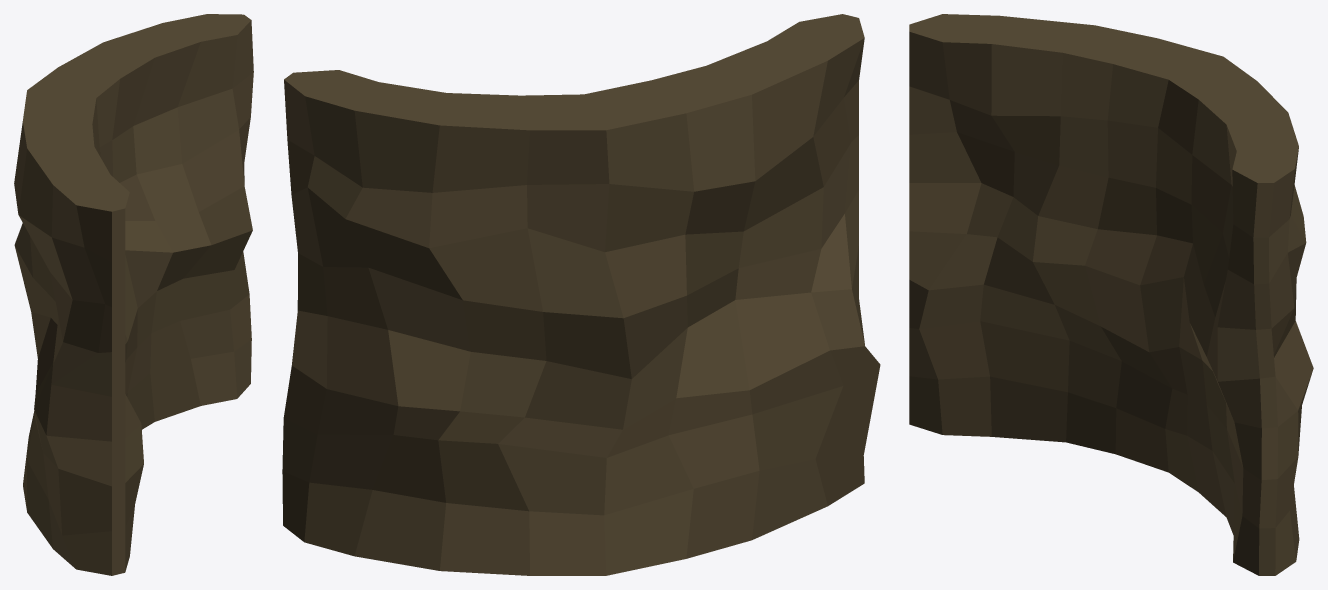
The model's file is BigCorner.1.fbx.
The picture shows the model from 3 angles, left to right: view 1: azimuth 30°, elevation 25°; view 2: azimuth 150°, elevation 25°; view 3: azimuth 270°, elevation 25°; orthographic projection. The views are drawn at different scales.
Parts seen in each view (by area): view 1: Big_Wall Corner.1; view 2: Big_Wall Corner.1; view 3: Big_Wall Corner.1.
Boxes of the visible parts, <box> form: Big_Wall Corner.1: <box>14,14,253,575</box>; Big_Wall Corner.1: <box>282,14,880,575</box>; Big_Wall Corner.1: <box>909,14,1313,575</box>.
Size of the model in its own units: 1261 by 1300 by 1213.
